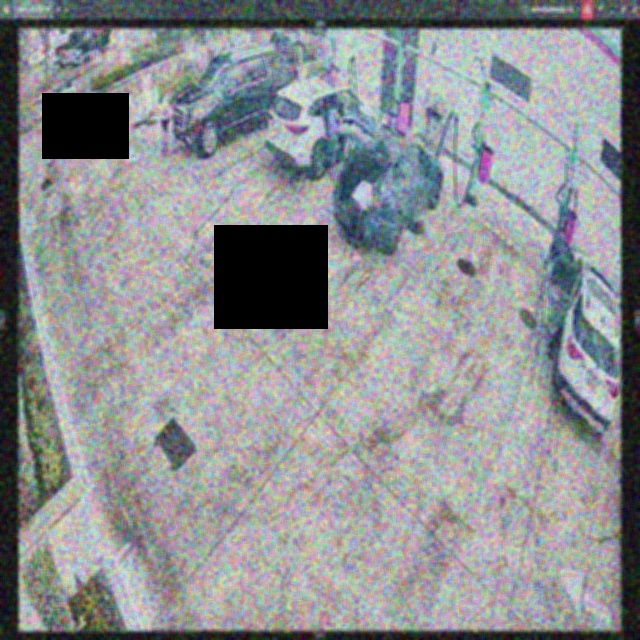Car: (335, 130, 443, 253), (172, 47, 295, 153), (266, 75, 378, 178)
